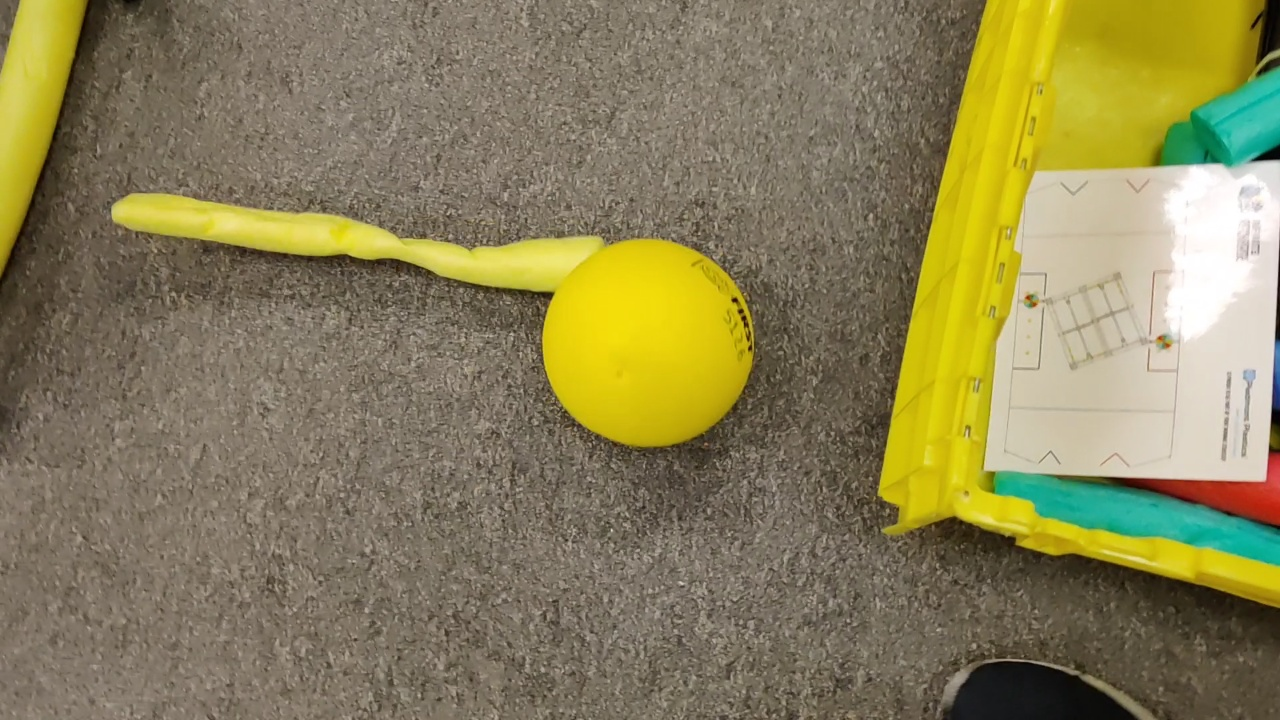Ball: (542, 236, 763, 451)
